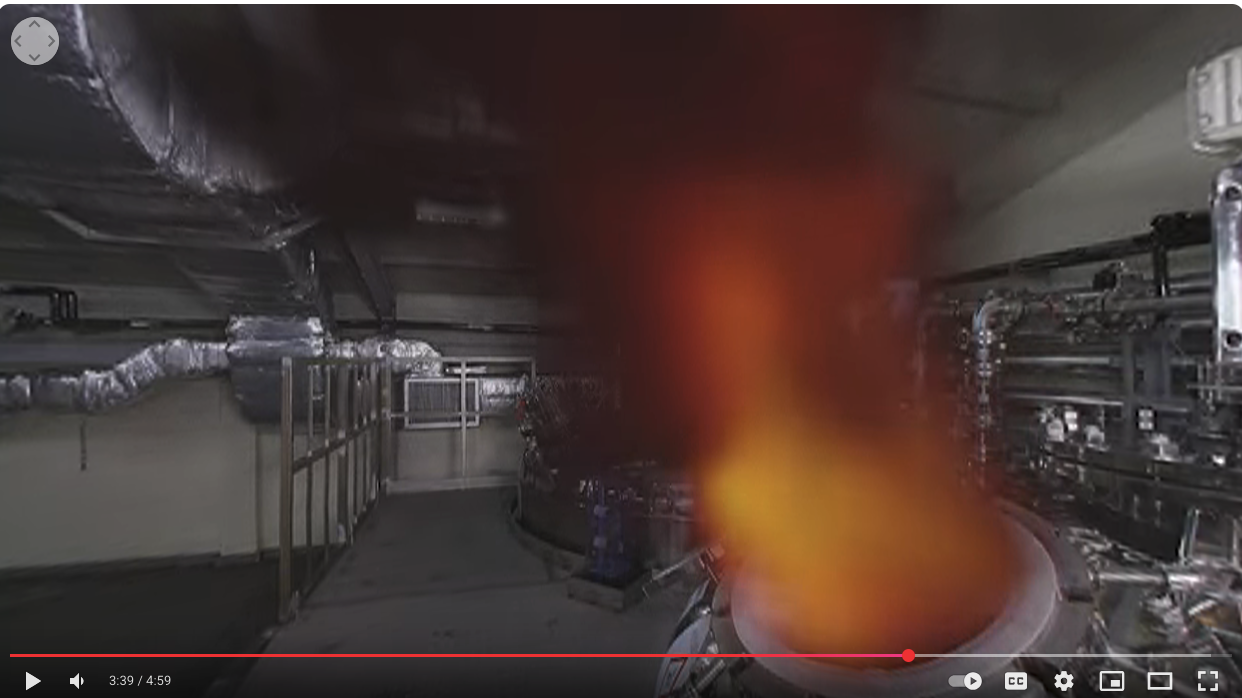fire: (621, 70, 1072, 651)
